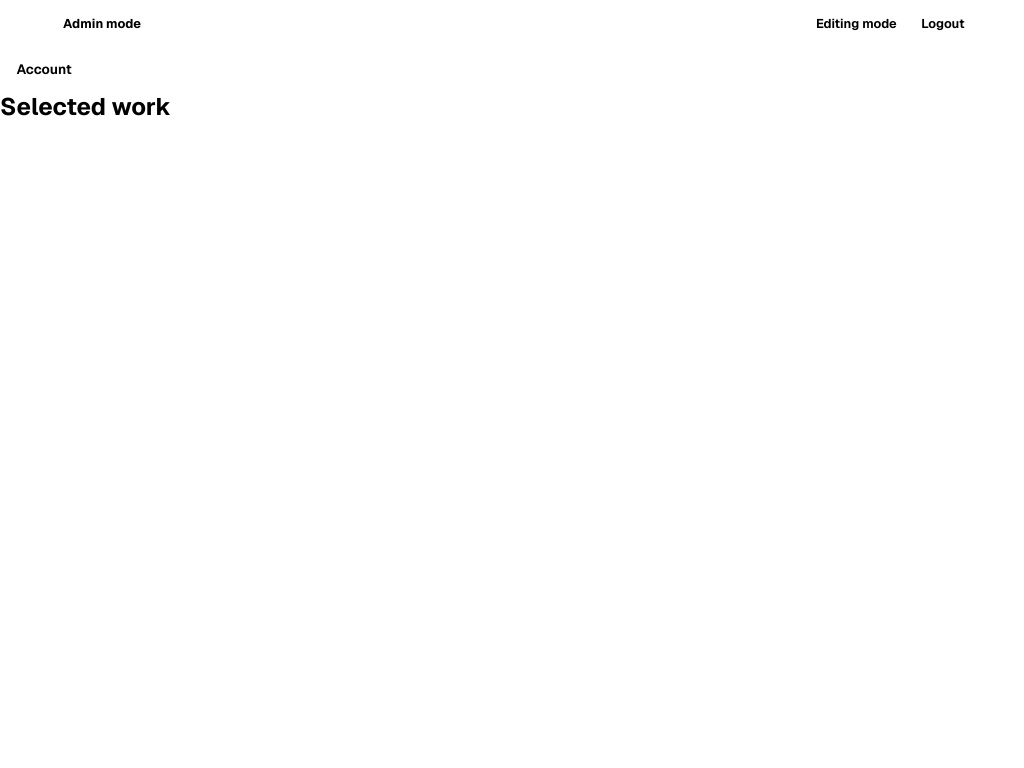
an expired access token is refreshed before retrying the account request
Click the button "Account": {"x": 44, "y": 69} 0,47 -> 88,91
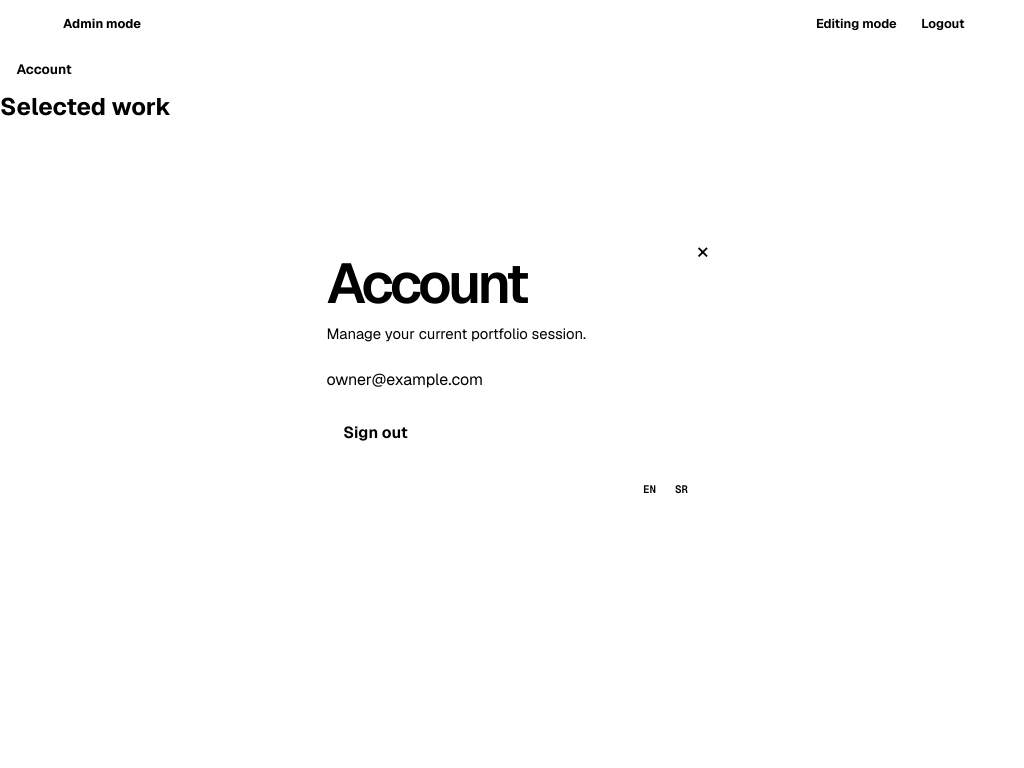
expect the text "owner@example.com" is shown: met, box 326,369 -> 483,390
